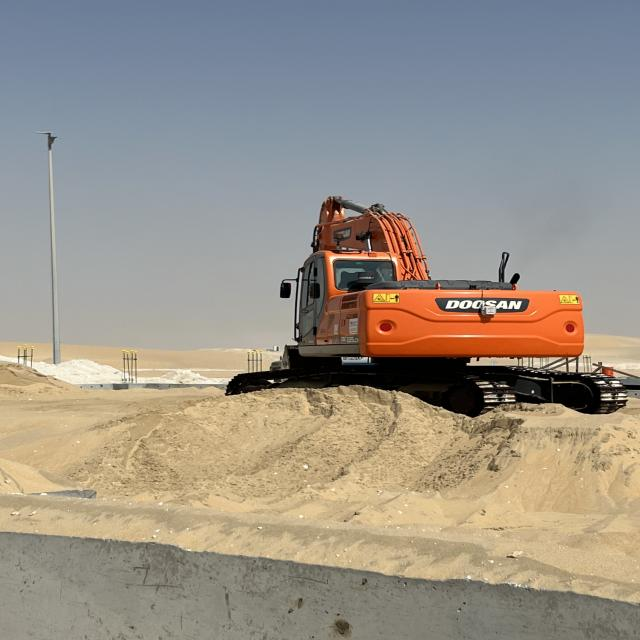Excavator: (221, 191, 628, 428)
